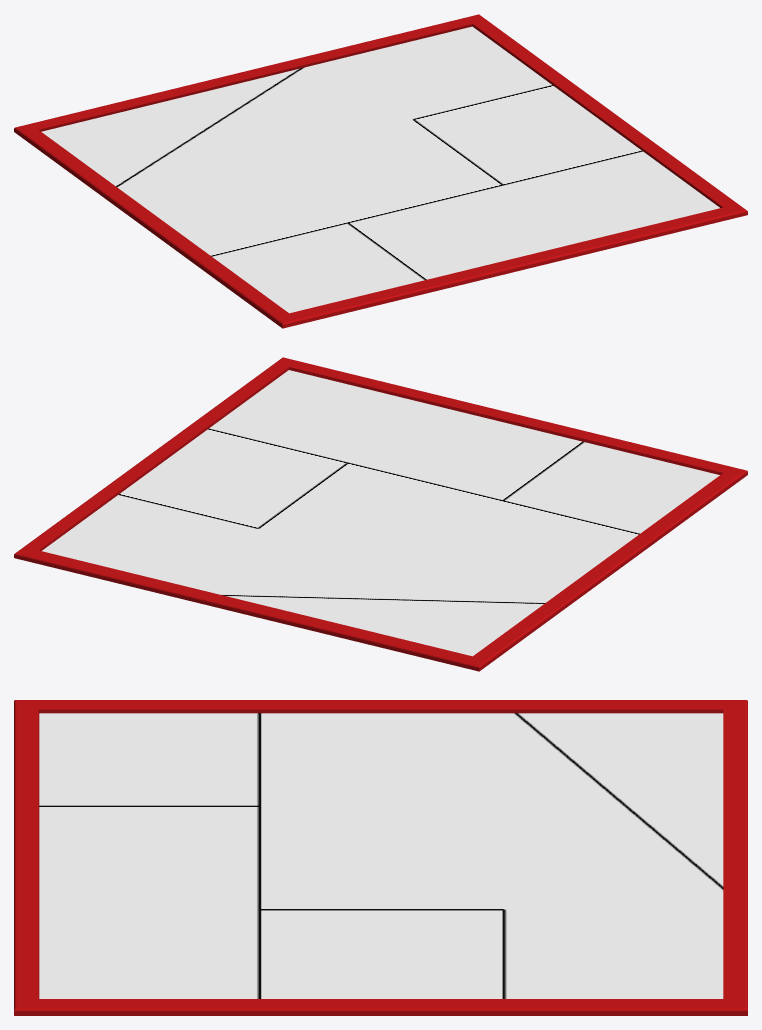
Rendered from frame1sideView.glb.
The picture shows the model from 3 angles, top to bottom: view 1: azimuth 30°, elevation 25°; view 2: azimuth 150°, elevation 25°; view 3: azimuth 270°, elevation 25°; orthographic projection. The views are drawn at different scales.
Visible parts, largest first — view 1: Plane; view 2: Plane; view 3: Plane.
Boxes of the visible parts, x1,y1,x2,y2 form: Plane: (14, 14, 747, 328); Plane: (14, 357, 747, 671); Plane: (14, 700, 747, 1015).
Size of the model in its own units: 2 by 0.02 by 2.
Materials: 2 (1 with a texture image).
